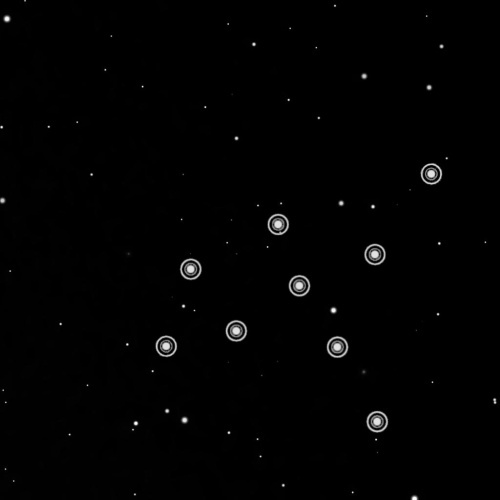cygnus: (153, 158, 448, 439)
